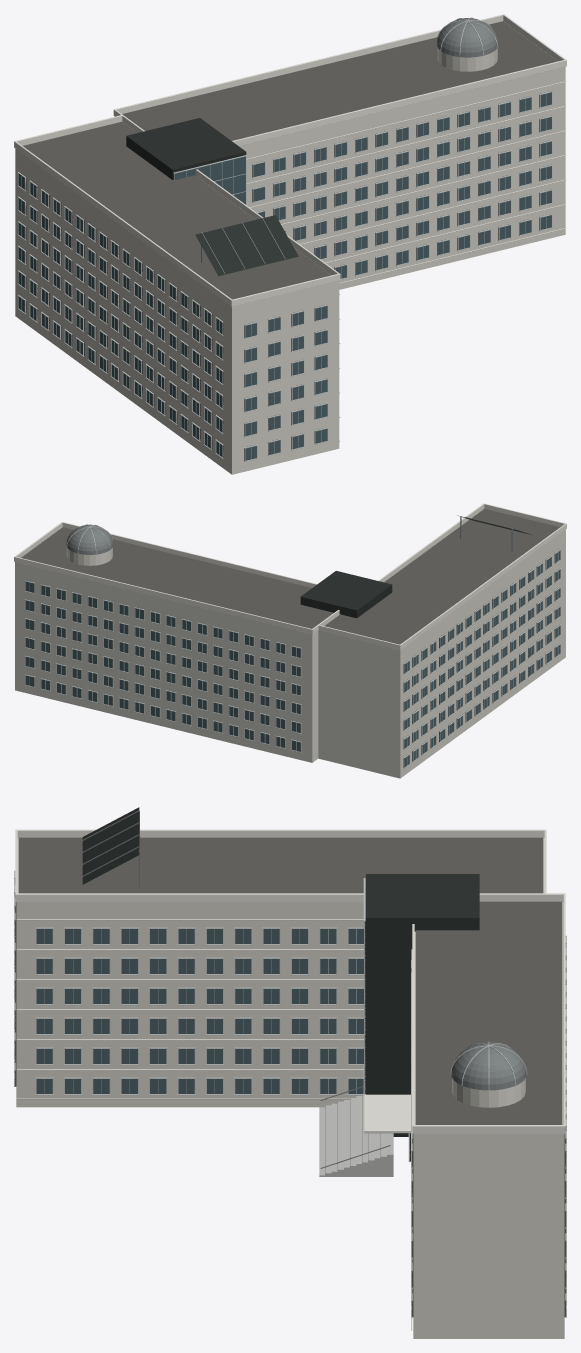
3 renders of one model, top to bottom at view 1: azimuth 30°, elevation 25°; view 2: azimuth 150°, elevation 25°; view 3: azimuth 270°, elevation 25°, orthographic. The views are drawn at different scales.
Parts seen in each view (by area): view 1: west-courtyard-wing__stone, north-courtyard-wing__stone, north-roof__roof, west-roof__roof, north-courtyard-windows__glass, west-wing-window-grid__frame, west-wing-window-grid__glass, north-courtyard-windows__frame, north-roof__trim, west-roof__trim, glazed-connection-core__dark, solar-panel-slope__dark (+8 smaller); view 2: north-courtyard-wing__stone, west-courtyard-wing__stone, west-roof__roof, north-roof__roof, north-estimated-rear-windows__glass, north-estimated-rear-windows__frame, west-wing-window-grid__frame, west-wing-window-grid__glass, north-roof__trim, west-roof__trim, glazed-connection-core__dark, west-wing-window-grid__dark (+2 smaller); view 3: west-courtyard-wing__stone, north-courtyard-wing__stone, north-roof__roof, west-roof__roof, west-wing-window-grid__glass, glazed-connection-core__dark, west-wing-window-grid__frame, west-roof__trim, west-stone-course-joints__trim, courtyard-main-stair__concrete, north-roof__trim, observatory-dome__metal (+4 smaller).
Boxes of the visible parts, <box> form: west-courtyard-wing__stone: <box>15,148,339,474</box>; north-courtyard-wing__stone: <box>239,25,565,289</box>; north-roof__roof: <box>122,21,557,140</box>; west-roof__roof: <box>23,121,331,299</box>; north-courtyard-windows__glass: <box>253,92,551,278</box>; west-wing-window-grid__frame: <box>17,172,223,458</box>; west-wing-window-grid__glass: <box>18,174,222,456</box>; north-courtyard-windows__frame: <box>252,91,552,279</box>; north-roof__trim: <box>113,14,566,146</box>; west-roof__trim: <box>14,115,340,306</box>; glazed-connection-core__dark: <box>126,118,246,179</box>; solar-panel-slope__dark: <box>195,215,298,276</box>; north-courtyard-wing__stone: <box>15,562,318,762</box>; west-courtyard-wing__stone: <box>318,529,565,778</box>; west-roof__roof: <box>324,508,560,644</box>; north-roof__roof: <box>21,527,333,628</box>; north-estimated-rear-windows__glass: <box>25,581,300,751</box>; north-estimated-rear-windows__frame: <box>24,580,301,752</box>; west-wing-window-grid__frame: <box>403,549,561,768</box>; west-wing-window-grid__glass: <box>404,551,560,766</box>; north-roof__trim: <box>14,522,339,634</box>; west-roof__trim: <box>318,503,566,649</box>; glazed-connection-core__dark: <box>300,571,392,618</box>; west-wing-window-grid__dark: <box>403,549,559,767</box>; west-courtyard-wing__stone: <box>16,838,544,1107</box>; north-courtyard-wing__stone: <box>413,902,564,1338</box>; north-roof__roof: <box>415,901,562,1124</box>; west-roof__roof: <box>18,837,543,893</box>; west-wing-window-grid__glass: <box>36,929,363,1093</box>; glazed-connection-core__dark: <box>366,874,479,1136</box>; west-wing-window-grid__frame: <box>35,927,363,1095</box>; west-roof__trim: <box>15,829,546,901</box>; west-stone-course-joints__trim: <box>16,919,363,1099</box>; courtyard-main-stair__concrete: <box>319,1094,393,1176</box>; north-roof__trim: <box>412,893,565,1133</box>; observatory-dome__metal: <box>451,1042,526,1090</box>.
Size of the model in its own units: 74.38 by 29.58 by 58.51.
